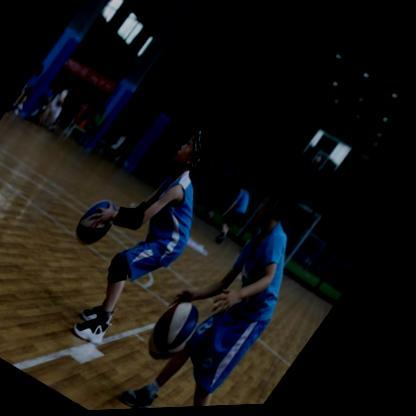basketball: (146, 294, 222, 371)
